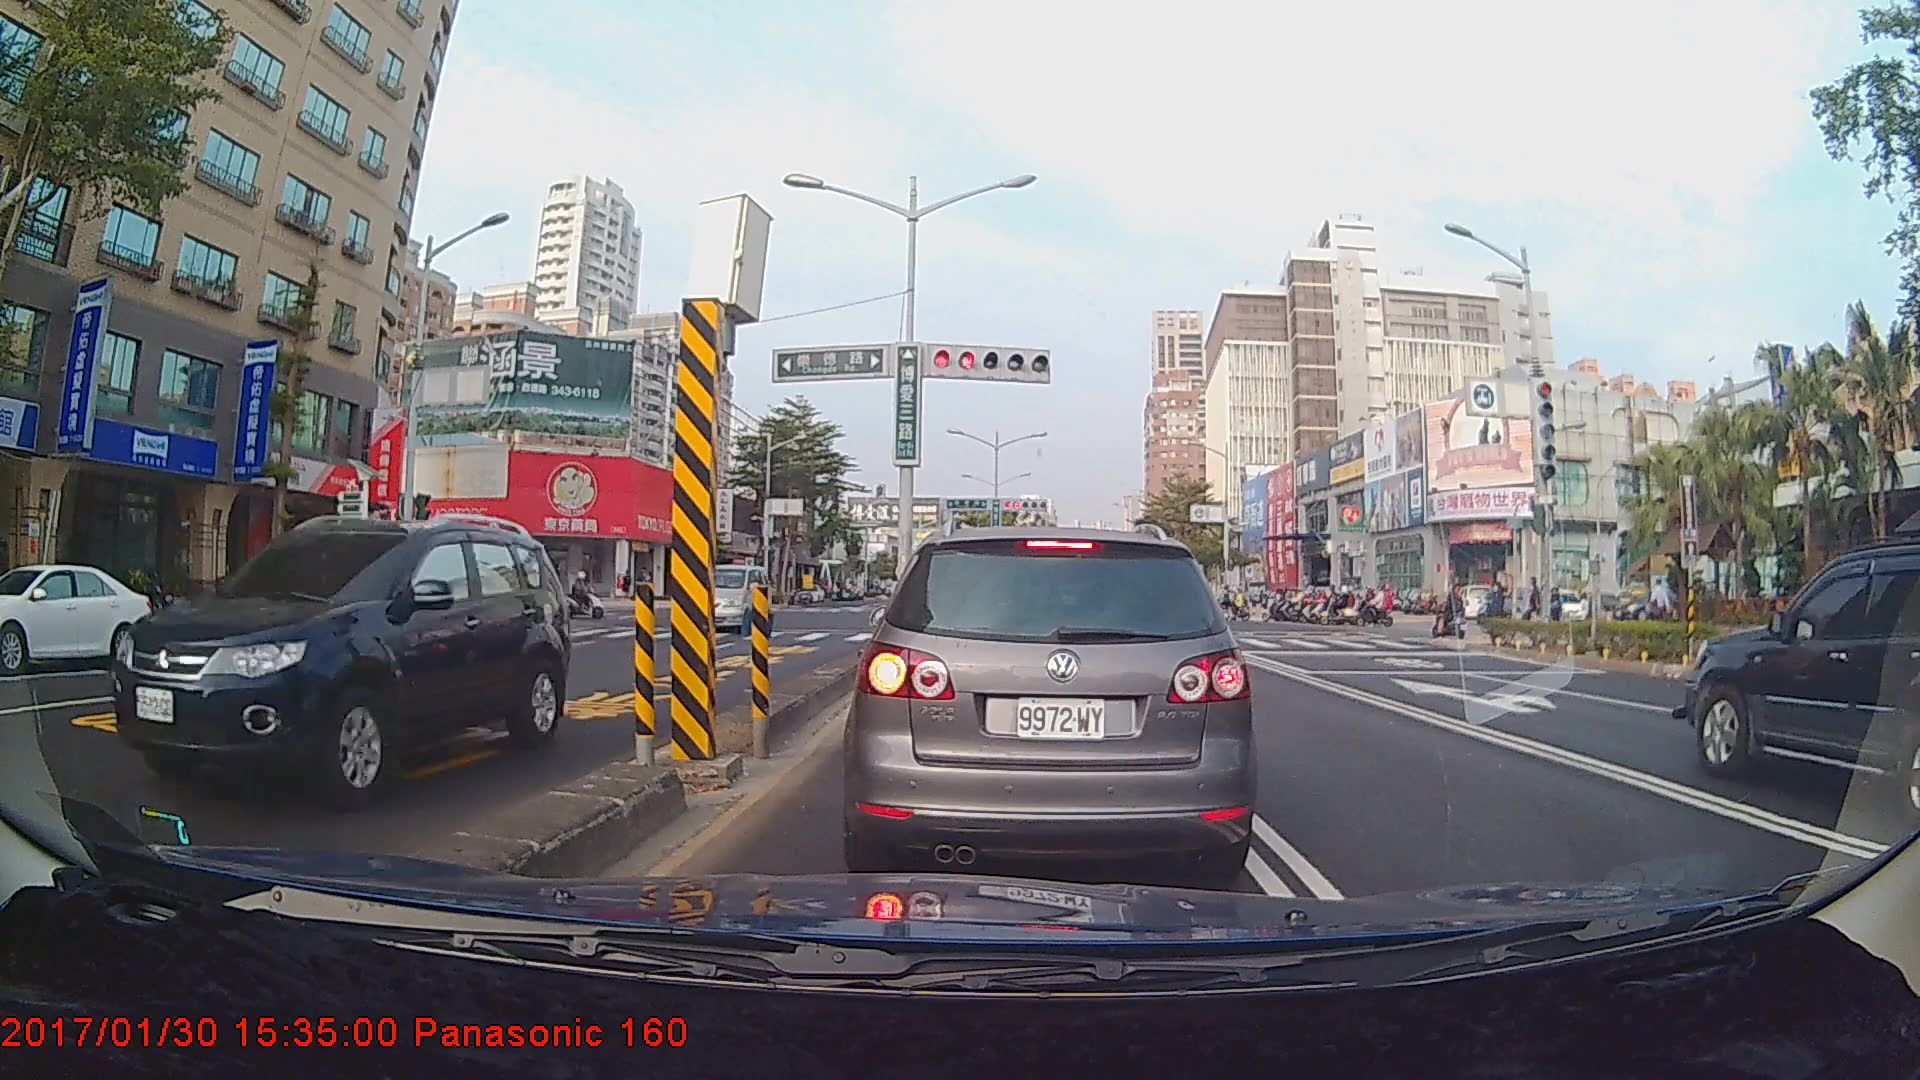pedestrian: (1650, 577, 1674, 635)
rider: (562, 566, 609, 619), (1429, 583, 1467, 638)
vehicle: (836, 515, 1261, 881), (106, 514, 565, 813), (1683, 531, 1920, 806), (0, 561, 158, 675), (677, 561, 770, 634)
